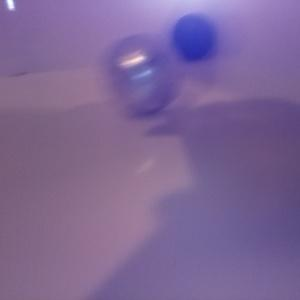alive_ball: (104, 34, 179, 114)
dead_ball: (173, 15, 214, 59)
